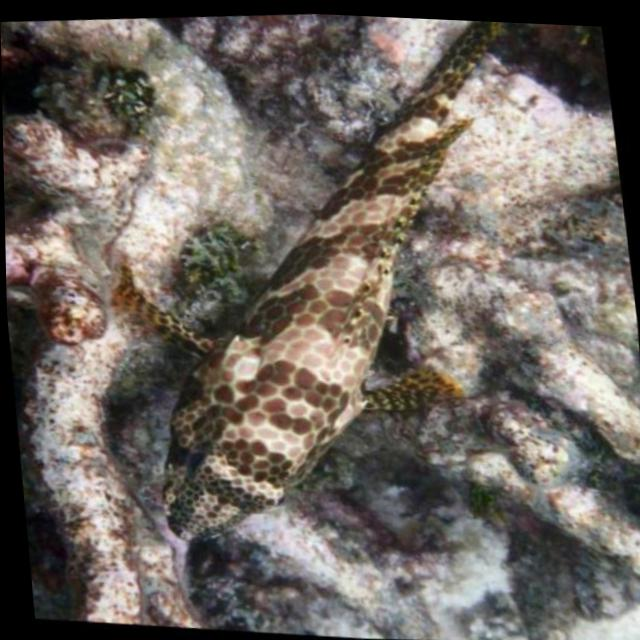Dead Coral: (0, 10, 212, 625), (436, 123, 622, 546)
